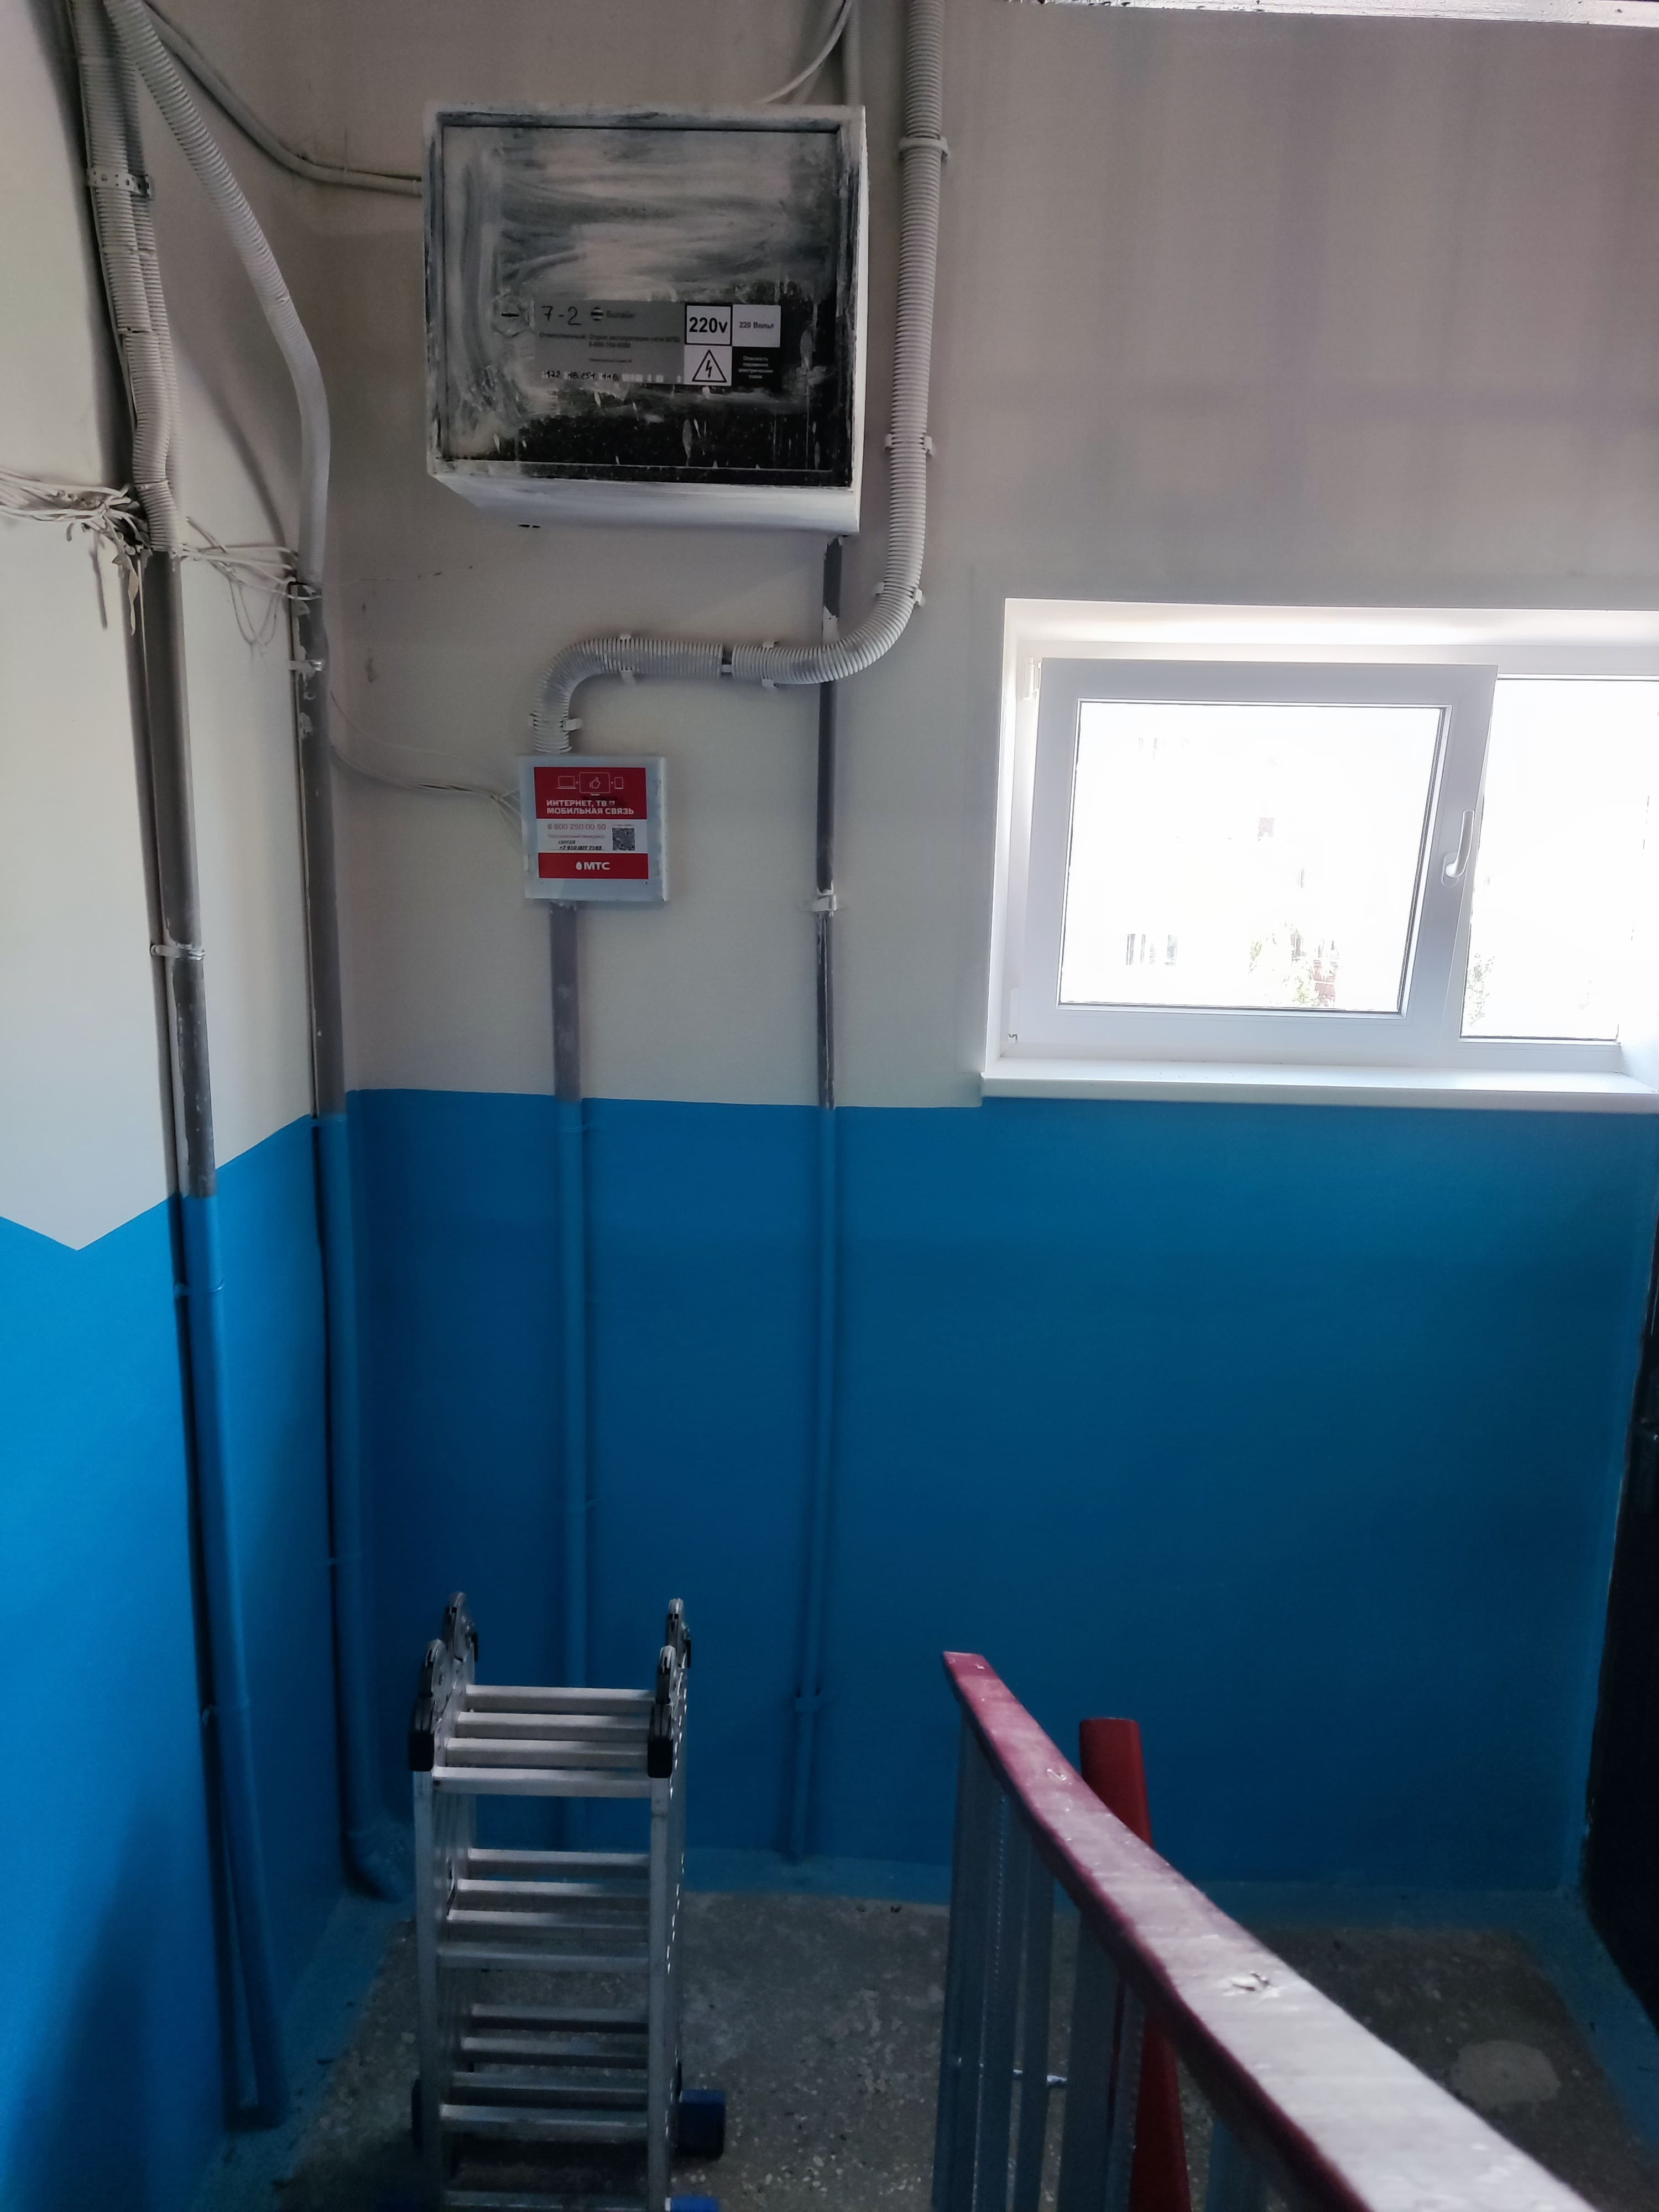shta-9m: (423, 101, 871, 540)
